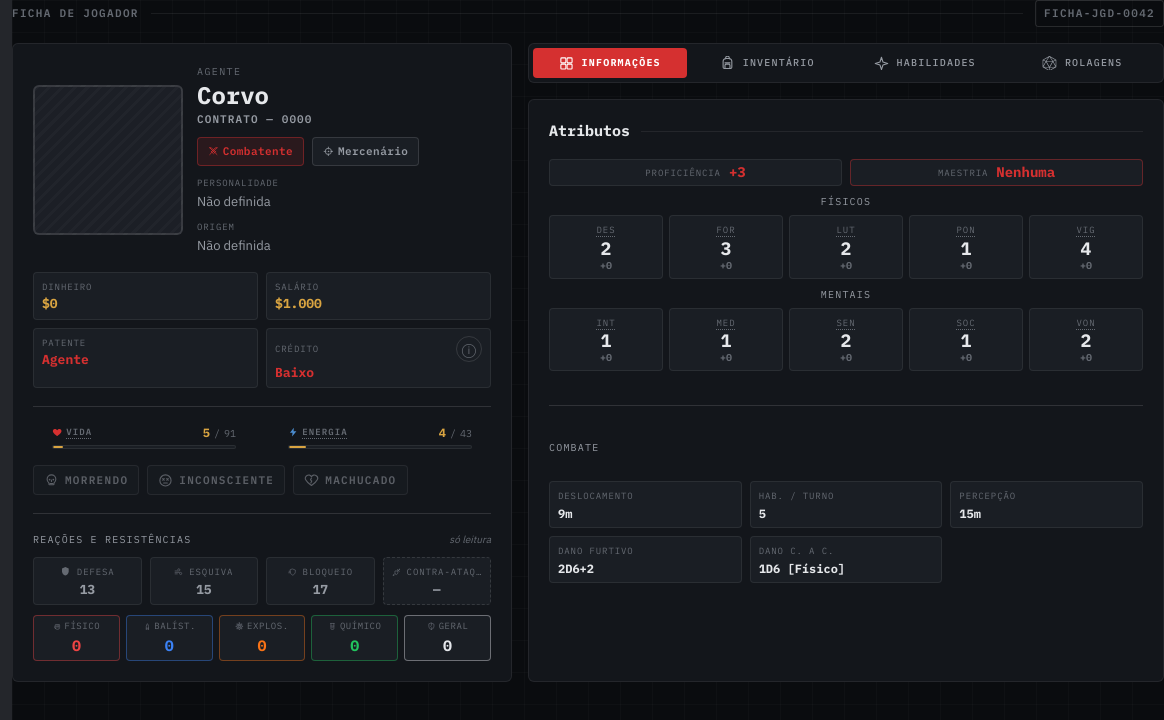
it: FichaCampanhaCard › aba Rolagens (`mostrarRolagensCompacto`) › clicar em Rolagens troca a aba ativa e desenha o painel de rolagens
The image size is (1164, 720).
Click the tab "Rolagens": [1082, 63] box [1006,48,1159,78]
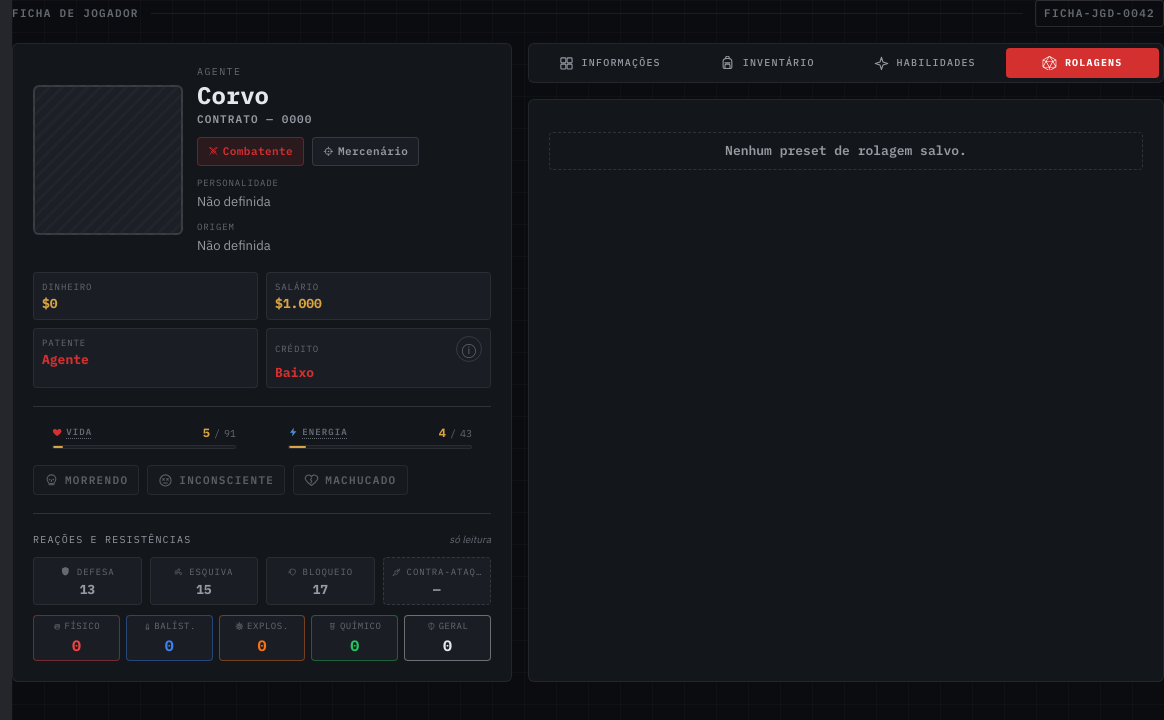
Expected: the element showing "Nenhum preset de rolagem salvo." is shown, [549,132,1143,170]
